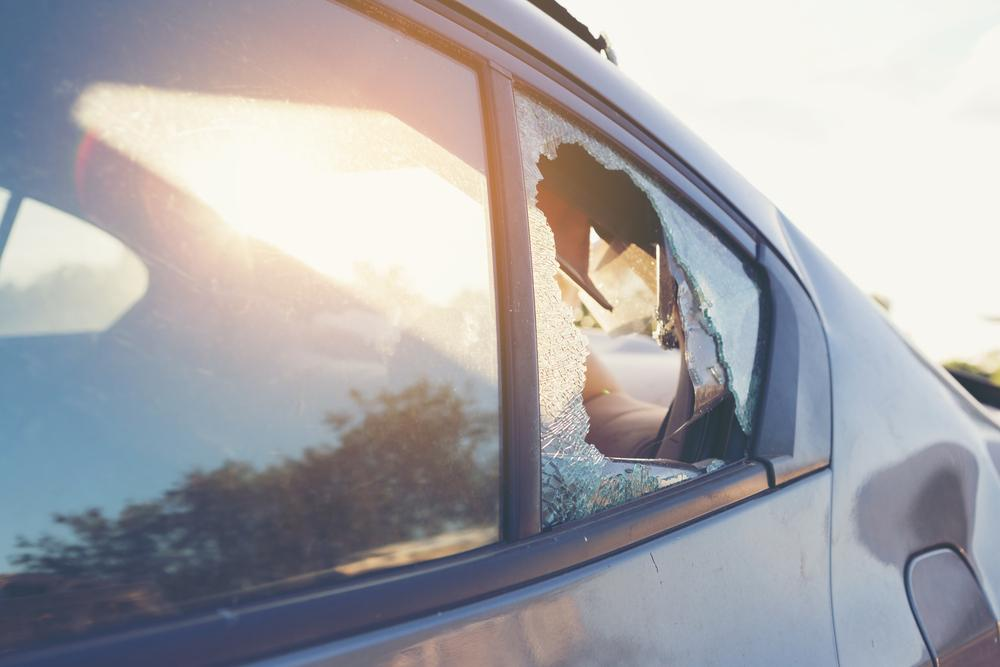glass shatter: (511, 82, 769, 532)
